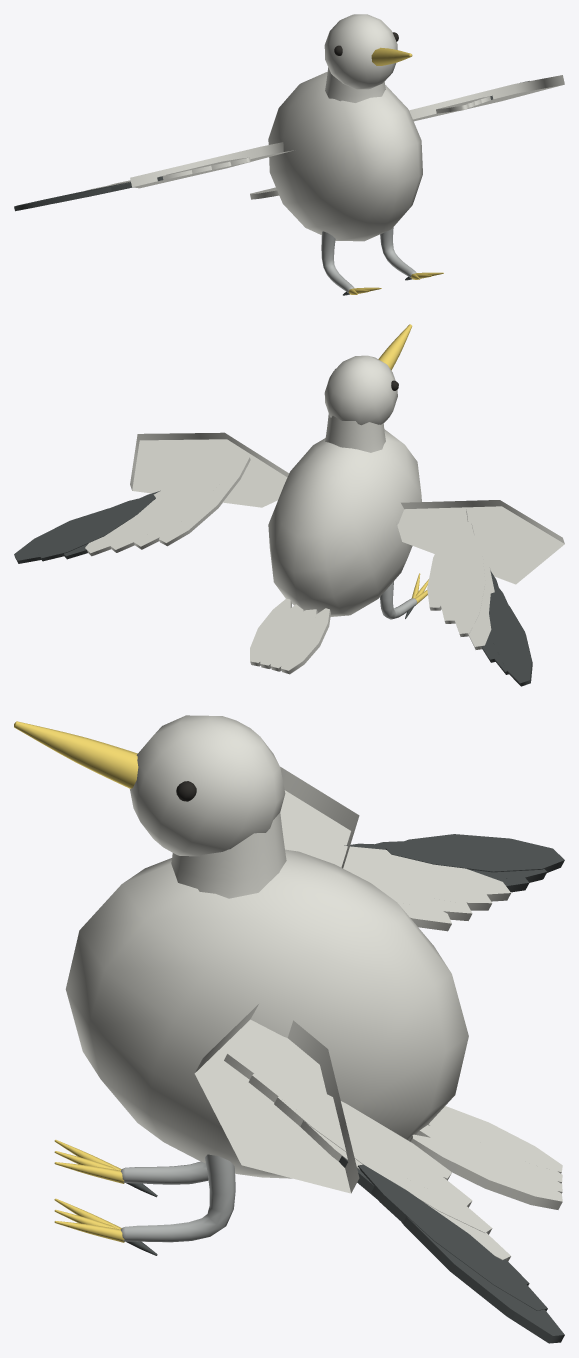
Rendered from birds-and-flying-creatures-wandering-albatross-b49f3ea6__20603.glb.
3 renders of one model, top to bottom at view 1: azimuth 30°, elevation 25°; view 2: azimuth 150°, elevation 25°; view 3: azimuth 270°, elevation 25°, orthographic. The views are drawn at different scales.
Parts seen in each view (by area): view 1: wandering-albatross; view 2: wandering-albatross; view 3: wandering-albatross.
Boxes of the visible parts, x1,y1,x2,y2 form: wandering-albatross: [14, 14, 564, 295]; wandering-albatross: [14, 324, 564, 686]; wandering-albatross: [14, 715, 564, 1343].
Bounding box in the file's own units: 2.63 × 1.27 × 1.25.
